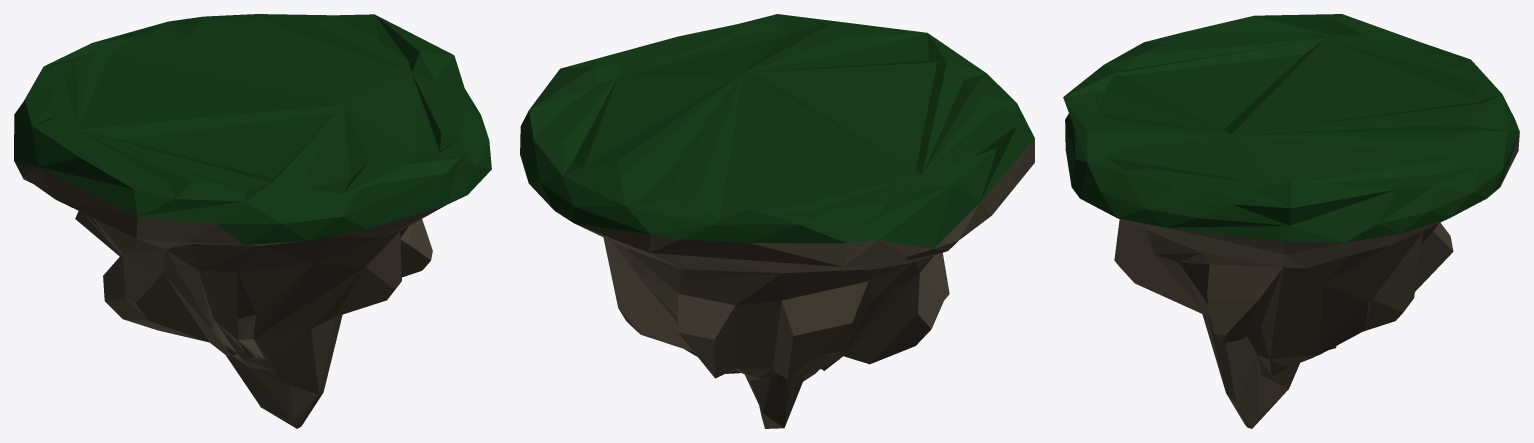
Rendered from SM_FlotingPlatform_3.FBX.
The picture shows the model from 3 angles, left to right: view 1: azimuth 30°, elevation 25°; view 2: azimuth 150°, elevation 25°; view 3: azimuth 270°, elevation 25°; orthographic projection. The views are drawn at different scales.
Parts seen in each view (by area): view 1: SM_FloatingPlatform_3; view 2: SM_FloatingPlatform_3; view 3: SM_FloatingPlatform_3.
Boxes of the visible parts, bbox=[...] form: SM_FloatingPlatform_3: bbox=[14, 14, 491, 428]; SM_FloatingPlatform_3: bbox=[520, 14, 1034, 428]; SM_FloatingPlatform_3: bbox=[1063, 14, 1519, 428].
Bounding box in the file's own units: 652 × 495 × 653.
